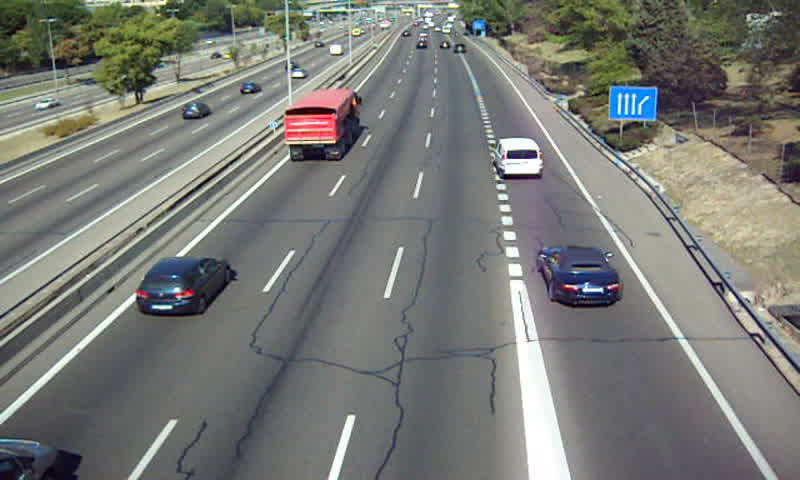car: (135, 256, 232, 315), (538, 247, 620, 305)
truck: (286, 91, 357, 160)
van: (492, 138, 543, 179)
